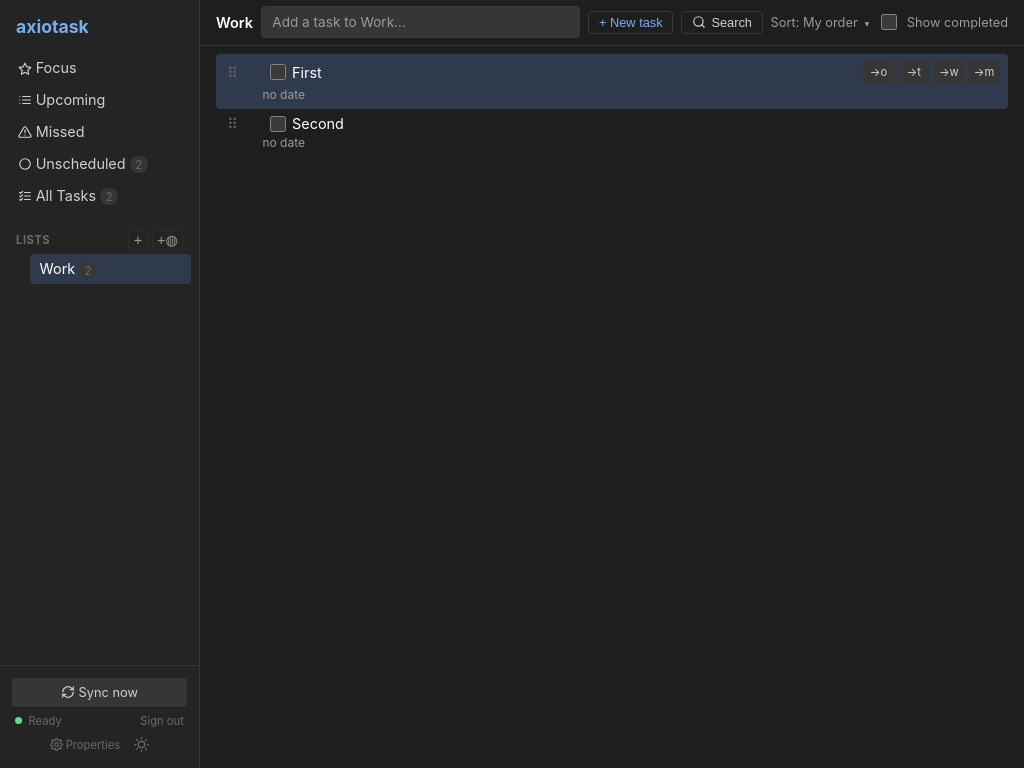
Test case: Detail Panel Workflows › The open panel tracks the task it is showing › panel ‹ › navigation moves the focused row in the list
The image size is (1024, 768).
Click the text "First" at (307, 72), box [292, 64, 322, 81]
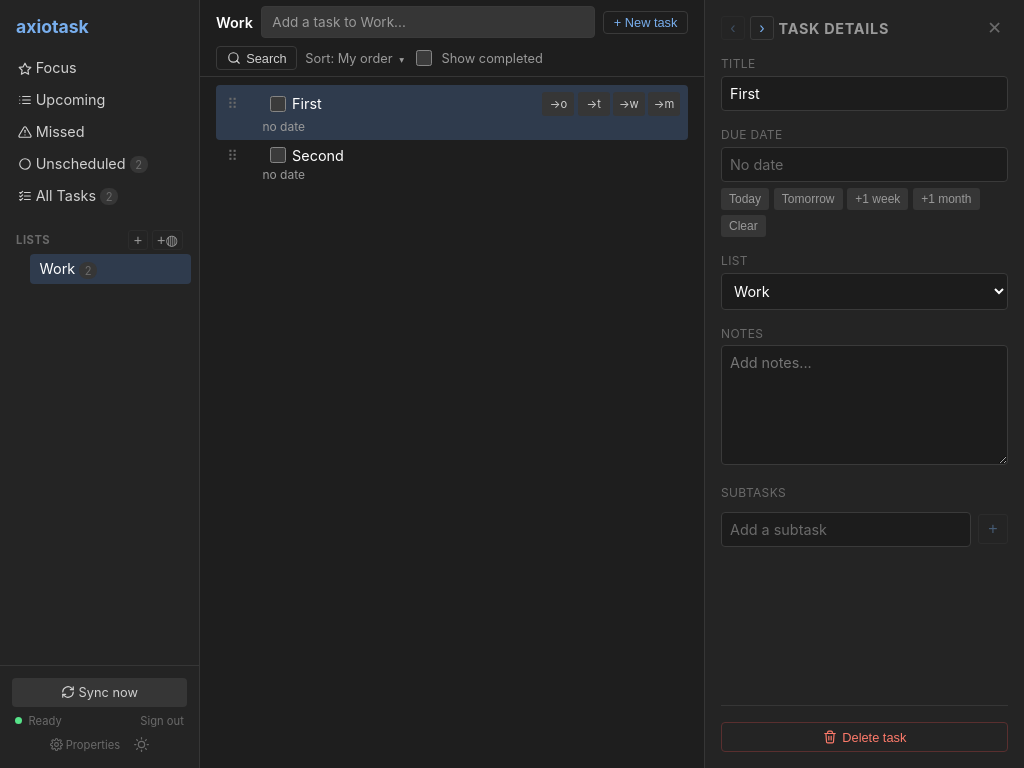
Check: the text "First" is shown, box [292, 95, 322, 112]
Check: the field labelled "Title" holds "First", box [721, 76, 1008, 111]
Click the button titled "Next (→)" at (762, 28), box [750, 16, 774, 40]
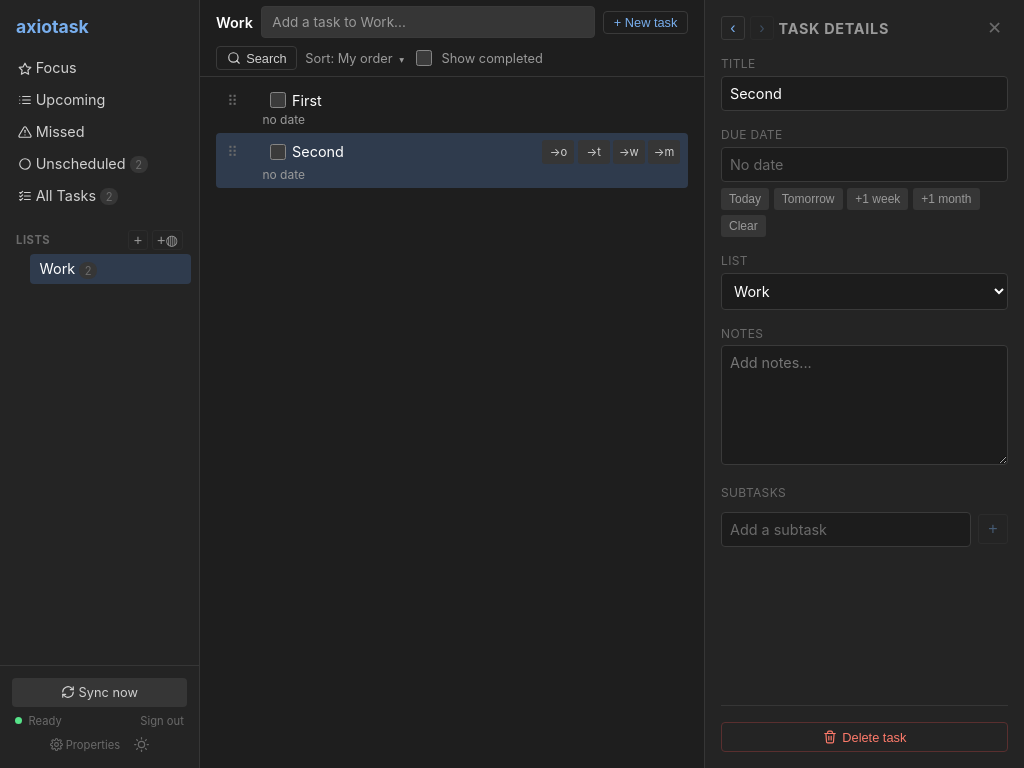
Check: the text with class "title" reads "Second", box [292, 143, 344, 160]
Check: the field labelled "Title" holds "Second", box [721, 76, 1008, 111]
